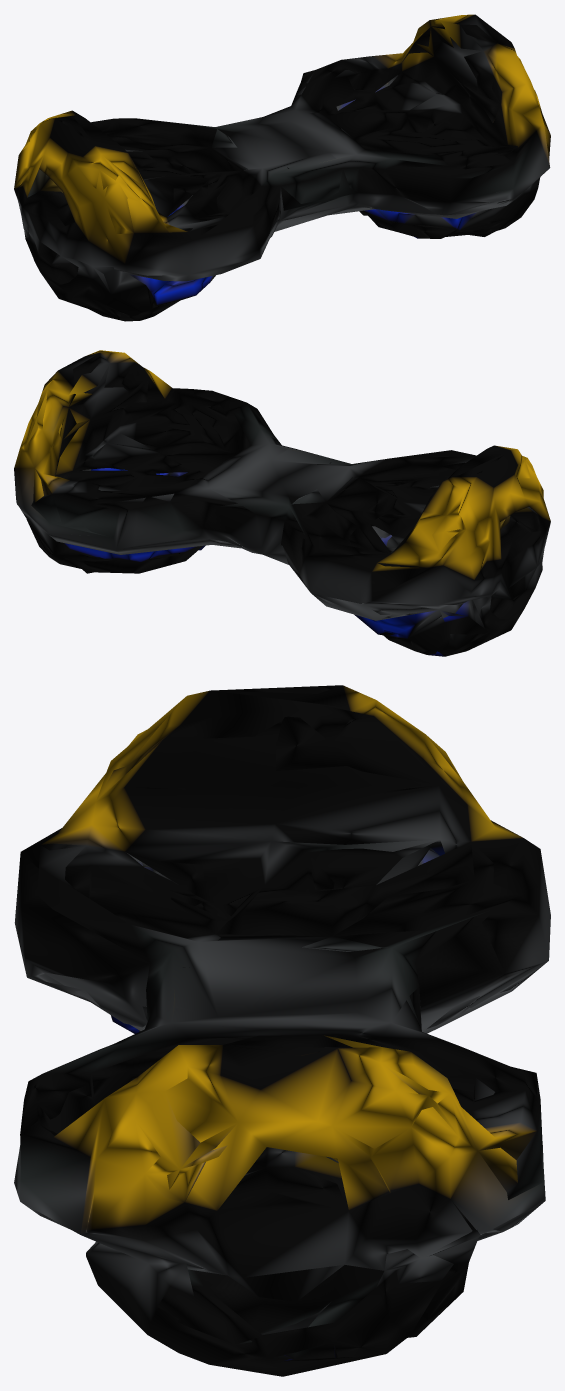
Rendered from gen3d-hoverboard-lod0.glb.
The picture shows the model from 3 angles, top to bottom: view 1: azimuth 30°, elevation 25°; view 2: azimuth 150°, elevation 25°; view 3: azimuth 270°, elevation 25°; orthographic projection. The views are drawn at different scales.
Visible parts, largest first — view 1: part_0; view 2: part_0; view 3: part_0.
Boxes of the visible parts, x1,y1,x2,y2 form: part_0: [14, 14, 550, 321]; part_0: [14, 350, 550, 656]; part_0: [14, 685, 550, 1376].
Size of the model in its own units: 2.54 by 0.9897 by 1.38.
